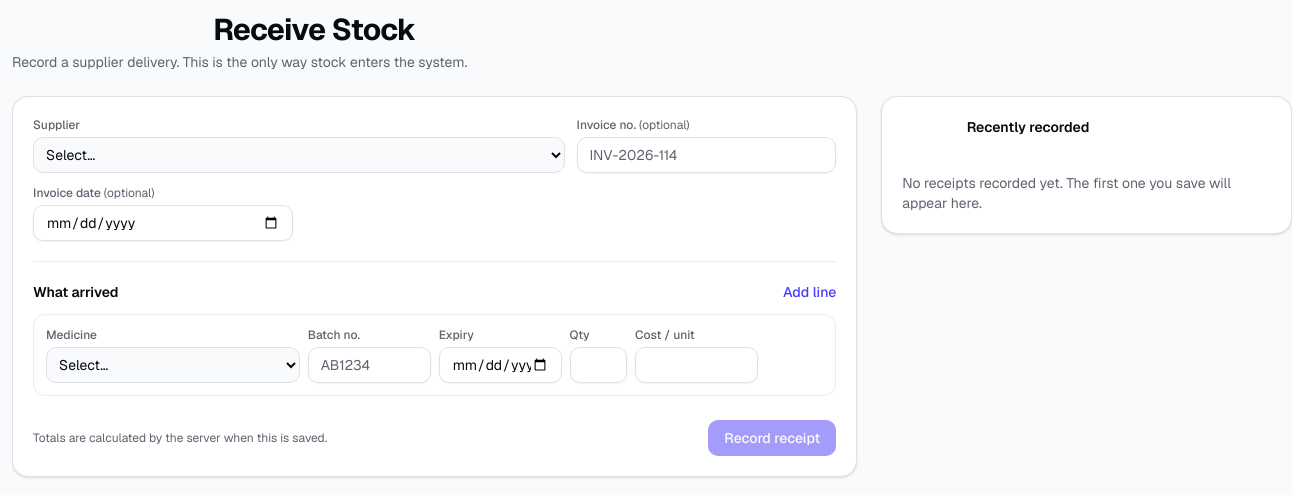
it: submit guarding › keeps the button disabled until the form is complete
The image size is (1292, 495).
expect the button "Record receipt" is disabled: met, box [708,420,836,456]
Select "Sun Pharma" in the dropdown labelled "Supplier" at [299, 155], box [33,137,564,173]
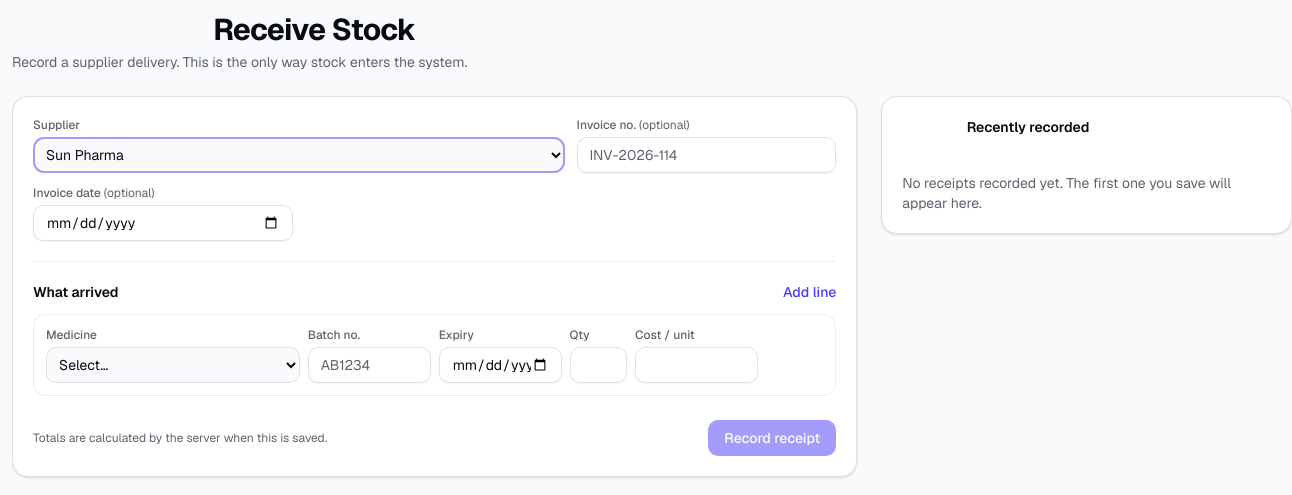
expect the button "Record receipt" is disabled: met, box [708,420,836,456]
Select "Paracetamol 500mg" in the dropdown labelled "Medicine" at [173, 365], box [46,347,300,383]
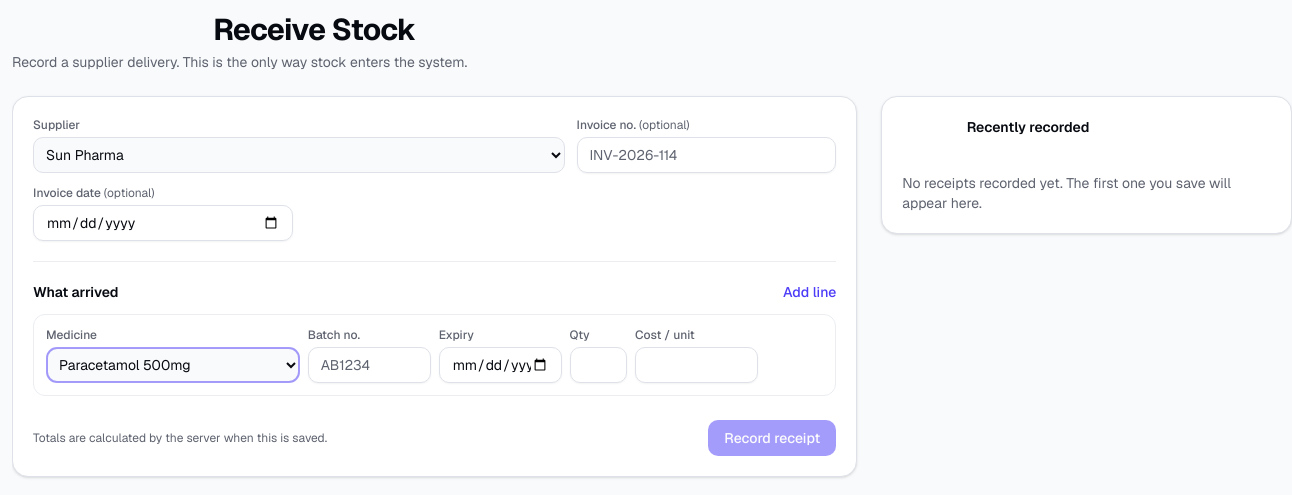
Type "GR-A" into the field labelled "Batch no.".
click(369, 365); type("GR-A")  # box [308,347,431,383]
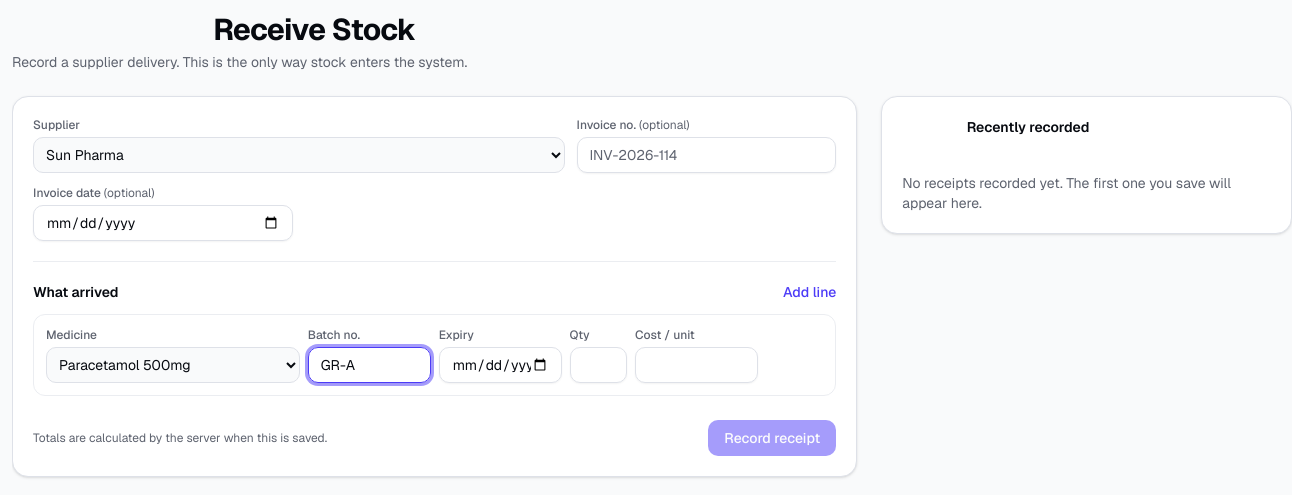
Type "2027-06-30" into the date field labelled "Expiry".
click(500, 365); type("2027-06-30")  # box [439,347,562,383]
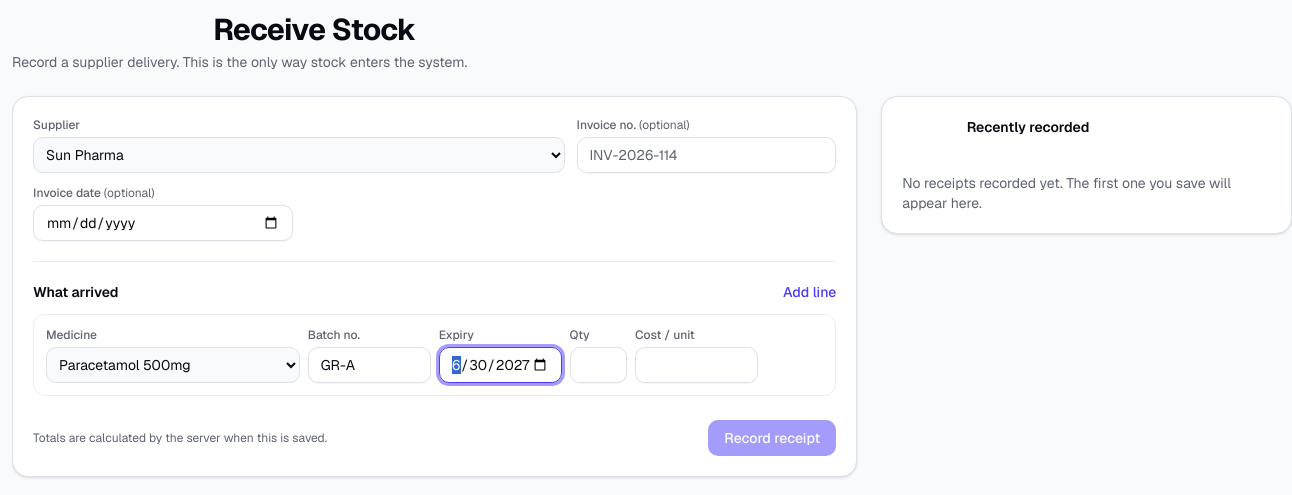
Type "100" into the number field labelled "Qty".
click(598, 365); type("100")  # box [570,347,627,383]
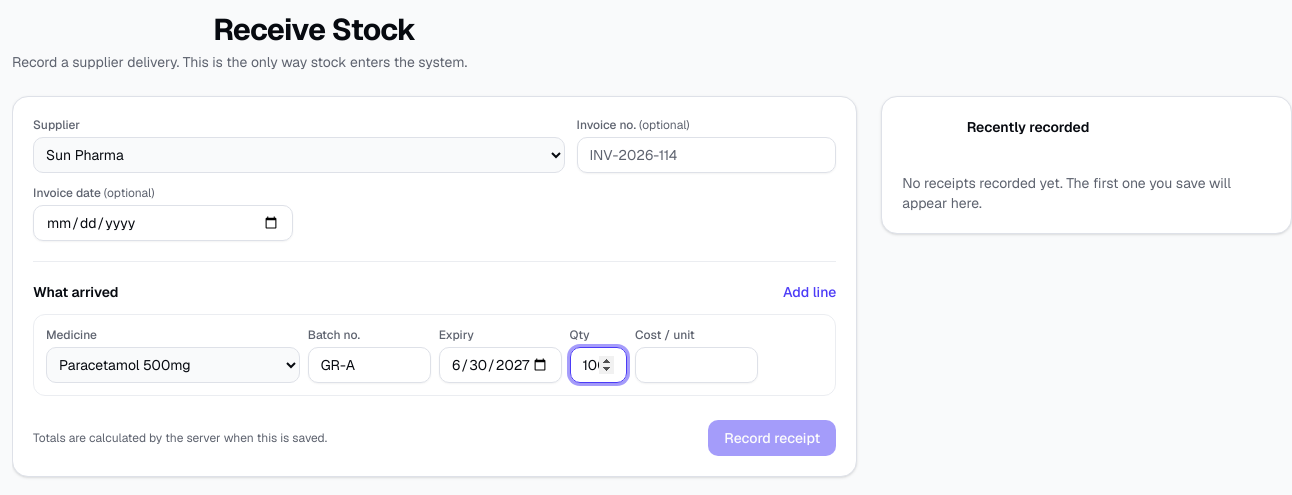
Type "12.50" into the number field labelled "Cost / unit".
click(696, 365); type("12.50")  # box [635,347,758,383]
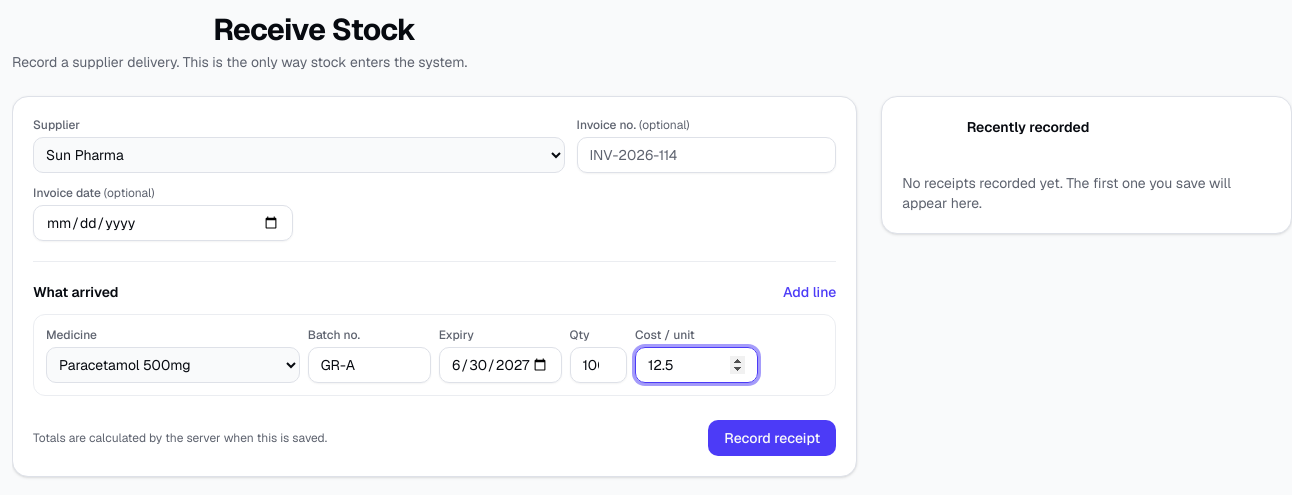
expect the button "Record receipt" is enabled: met, box [708,420,836,456]
